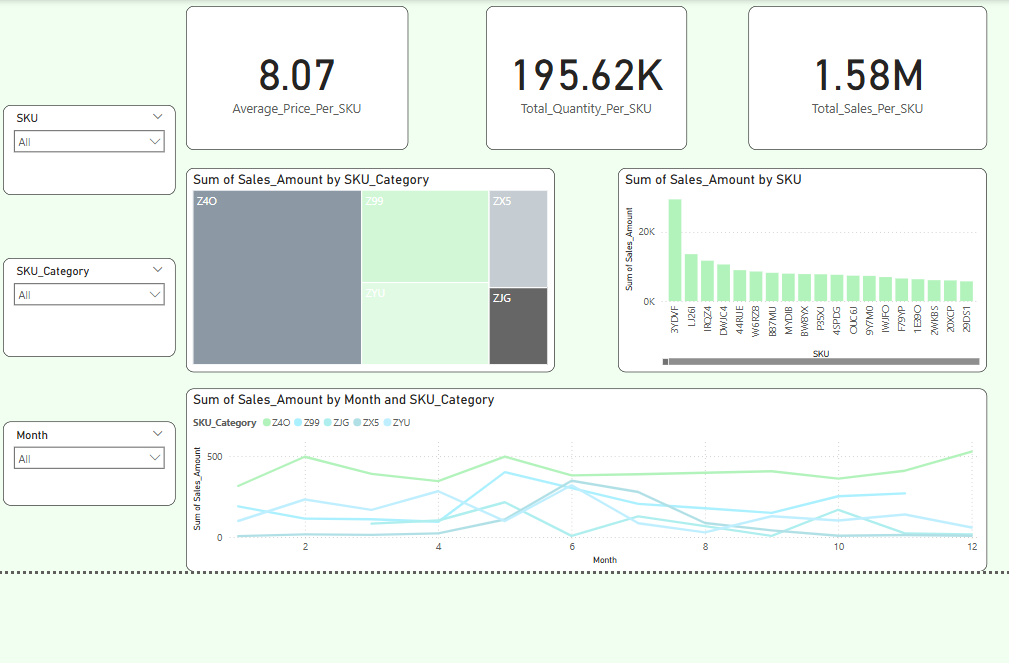

This screenshot's page, from the dashboard's own definition file:
{"tool":"powerbi","page":{"name":"Phân tích sản phẩm","canvas":[1280,720],"ordinal":2},"visuals":[{"type":"card","fields":{"Values":["DimProduct.Average_Price_Per_SKU"]},"box":[238.1,7.6,279.7,181.4],"z":0},{"type":"card","fields":{"Values":["DimProduct.Total_Quantity_Per_SKU"]},"box":[616.1,7.6,253.2,181.4],"z":1000},{"type":"card","fields":{"Values":["DimProduct.Total_Sales_Per_SKU"]},"box":[946.8,7.6,300.5,181.4],"z":2000},{"type":"columnChart","fields":{"Y":["Sum(FactSales.Sales_Amount)"],"Category":["DimProduct.SKU"]},"box":[782.4,211.7,464.9,257],"z":3000},{"type":"lineChart","fields":{"Category":["DimDate.Month"],"Y":["Sum(FactSales.Sales_Amount)"],"Series":["DimProduct.SKU_Category"]},"box":[238.1,489.5,1009.1,230.6],"z":4000},{"type":"treemap","fields":{"Group":["DimProduct.SKU_Category"],"Values":["Sum(FactSales.Sales_Amount)"]},"box":[238.1,211.7,464.9,257],"z":5000},{"type":"slicer","fields":{"Values":["DimProduct.SKU"]},"box":[7.6,132.3,217.3,113.4],"z":5001},{"type":"slicer","fields":{"Values":["DimProduct.SKU_Category"]},"box":[7.6,325,217.3,124.7],"z":5002},{"type":"slicer","fields":{"Values":["DimDate.Month"]},"box":[7.6,531,217.3,105.8],"z":5003}]}

Visuals, with their boxes on the page's 1280x720 design canvas (x1, y1, x2, y2). These are canvas units, not pixel positions in the 1009x663 screenshot, which may show the page scaled, cropped or inside an application window:
card - DimProduct.Average_Price_Per_SKU: <bbox>238, 8, 518, 189</bbox>
card - DimProduct.Total_Quantity_Per_SKU: <bbox>616, 8, 869, 189</bbox>
card - DimProduct.Total_Sales_Per_SKU: <bbox>947, 8, 1247, 189</bbox>
columnChart - Sum(FactSales.Sales_Amount) x DimProduct.SKU: <bbox>782, 212, 1247, 469</bbox>
lineChart - DimDate.Month x Sum(FactSales.Sales_Amount): <bbox>238, 490, 1247, 720</bbox>
treemap - DimProduct.SKU_Category x Sum(FactSales.Sales_Amount): <bbox>238, 212, 703, 469</bbox>
slicer - DimProduct.SKU: <bbox>8, 132, 225, 246</bbox>
slicer - DimProduct.SKU_Category: <bbox>8, 325, 225, 450</bbox>
slicer - DimDate.Month: <bbox>8, 531, 225, 637</bbox>
